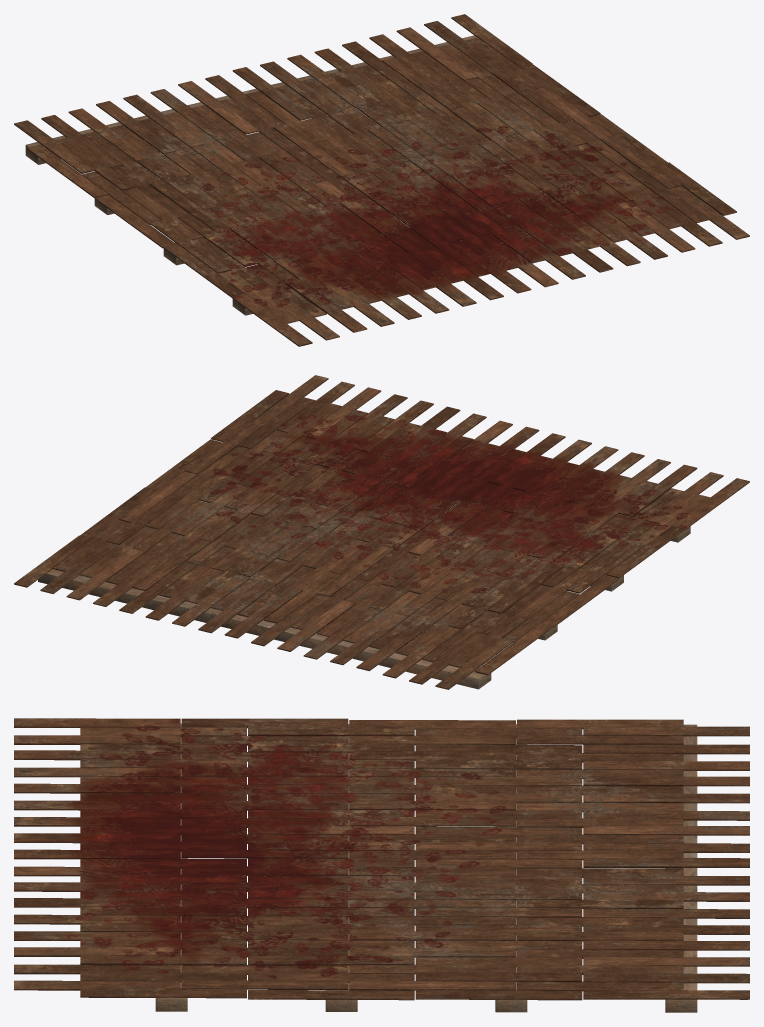
The model's file is bloody_and_clean_wooden_floor_tiles.glb.
3 views of the same model, one above another, from view 1: azimuth 30°, elevation 25°; view 2: azimuth 150°, elevation 25°; view 3: azimuth 270°, elevation 25° (orthographic). The views are drawn at different scales.
Visible parts, largest first — view 1: Plank.089, Plane; view 2: Plank.089, Plane; view 3: Plank.089, Plane.
Boxes of the visible parts, x1=… form: Plank.089: x1=14, y1=14, x2=749, y2=346; Plane: x1=25, y1=35, x2=681, y2=315; Plank.089: x1=14, y1=375, x2=749, y2=689; Plane: x1=38, y1=514, x2=690, y2=689; Plank.089: x1=14, y1=718, x2=749, y2=1000; Plane: x1=155, y1=723, x2=697, y2=1012.
Bounding box in the file's own units: 13.61 × 0.4239 × 15.15.
Materials: 2 (2 with a texture image).
